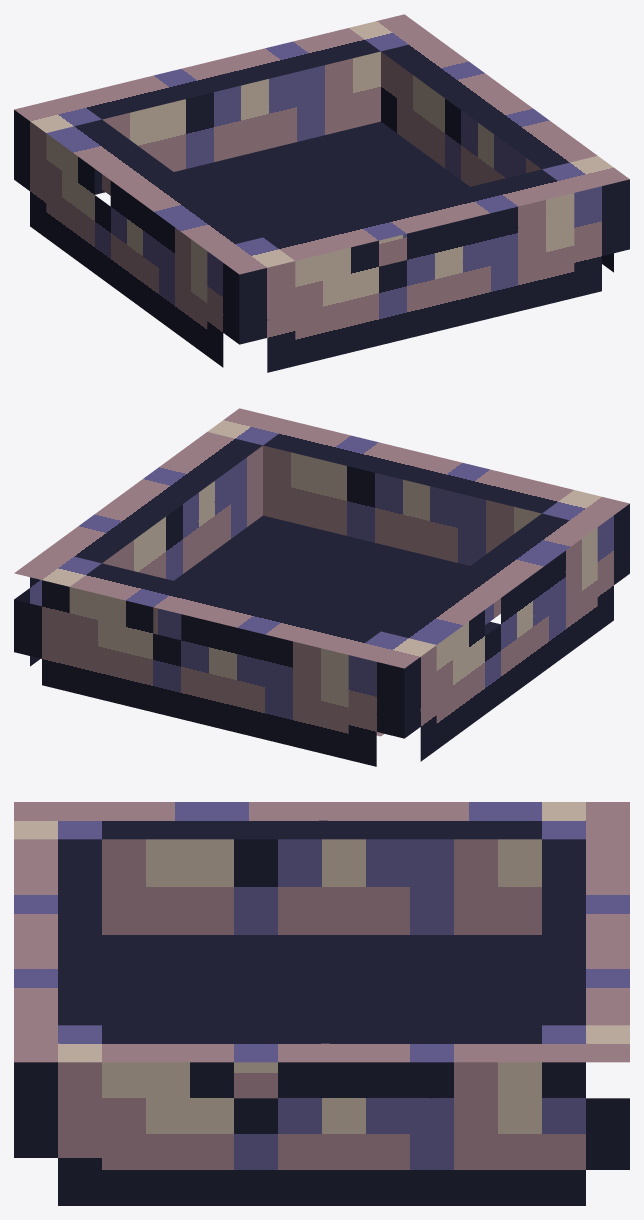
Rendered from Hole.gltf.
3 renders of one model, top to bottom at view 1: azimuth 30°, elevation 25°; view 2: azimuth 150°, elevation 25°; view 3: azimuth 270°, elevation 25°, orthographic. The views are drawn at different scales.
Parts seen in each view (by area): view 1: Hole; view 2: Hole; view 3: Hole.
Part boxes in pixels (<box>): Hole: <box>14,14,629,372</box>; Hole: <box>14,408,629,766</box>; Hole: <box>14,802,629,1205</box>.
Bounding box in the file's own units: 0.875 × 0.225 × 0.875.
1 material, 1 textured.
